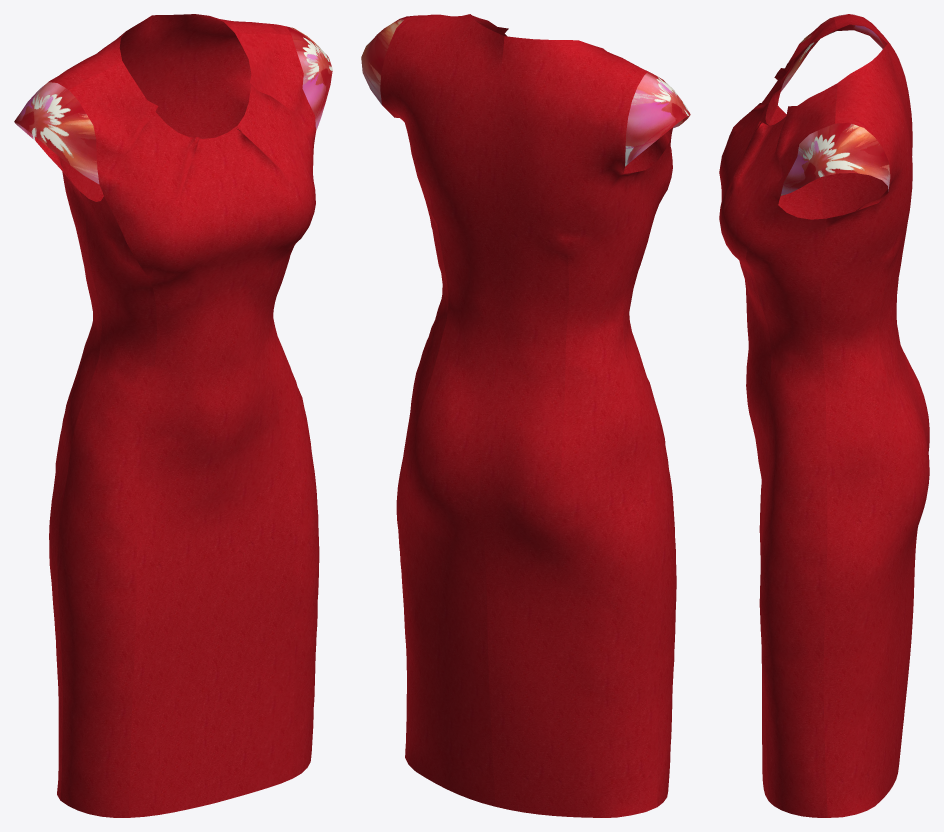
File: dress1.obj
3 views of the same model, side by side, from view 1: azimuth 30°, elevation 25°; view 2: azimuth 150°, elevation 25°; view 3: azimuth 270°, elevation 25° (orthographic). The views are drawn at different scales.
Bounding box in the file's own units: 431 × 1012 × 268.
2 materials, 2 textured.
